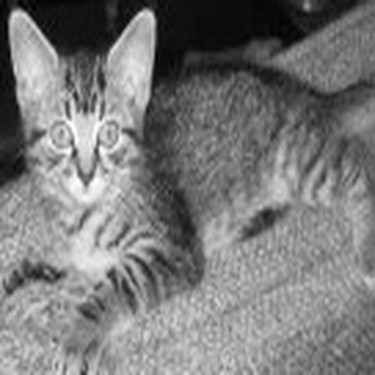cat: (36, 41, 359, 358)
